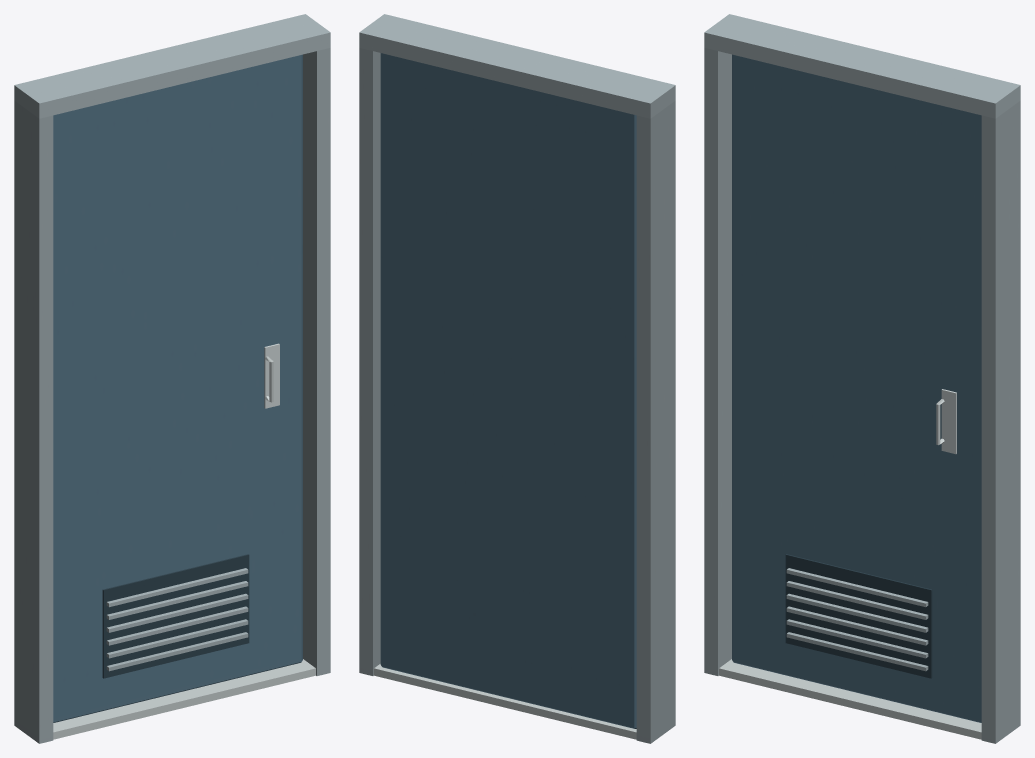
Rendered from pool_service_door.glb.
The picture shows the model from 3 angles, left to right: view 1: azimuth 30°, elevation 25°; view 2: azimuth 150°, elevation 25°; view 3: azimuth 330°, elevation 25°; orthographic projection.
Visible parts, largest first — view 1: pool_pool_service_door; view 2: pool_pool_service_door; view 3: pool_pool_service_door.
Part boxes in pixels (<box>): pool_pool_service_door: <box>14,14,330,743</box>; pool_pool_service_door: <box>359,14,675,743</box>; pool_pool_service_door: <box>704,14,1020,743</box>.
Bounding box in the file's own units: 1 × 2.1 × 0.15.
Materials: 1 (1 with a texture image).
